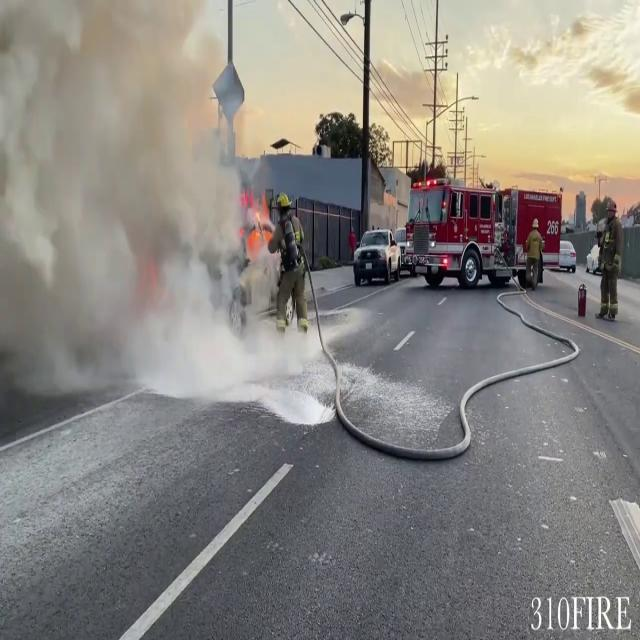Smoke: (0, 0, 278, 420)
